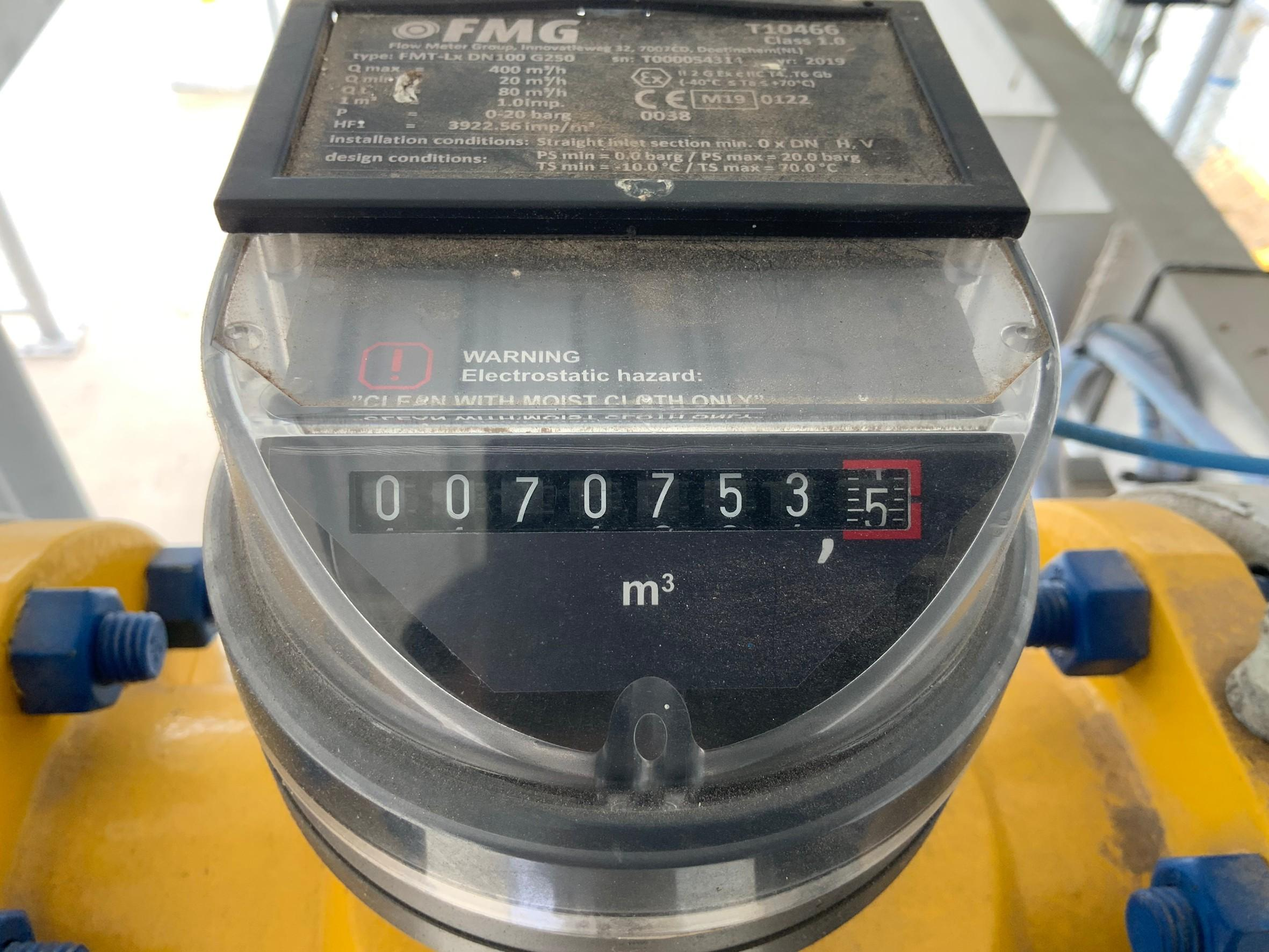analog_dial: (344, 454, 927, 546)
